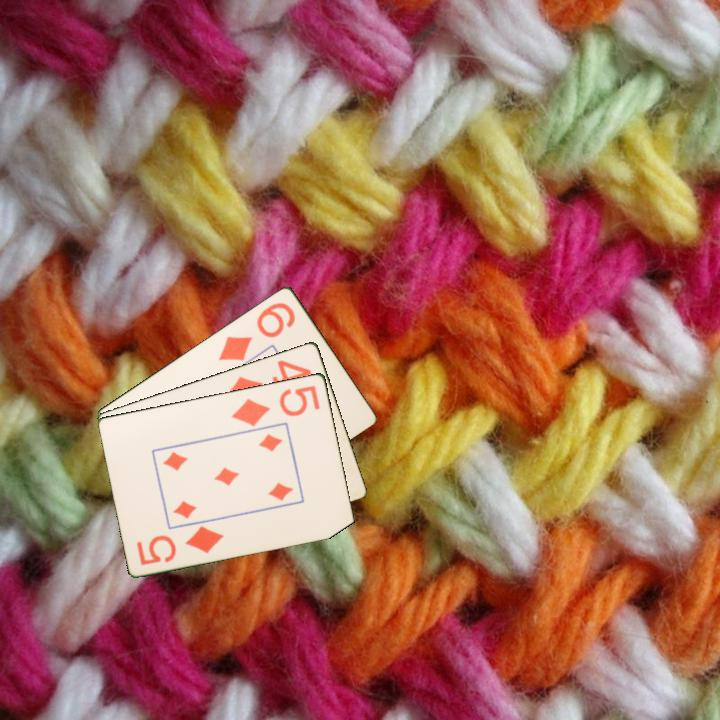4d: (222, 356, 315, 406)
5d: (228, 381, 323, 429), (133, 522, 227, 568)
6d: (215, 298, 298, 363)
